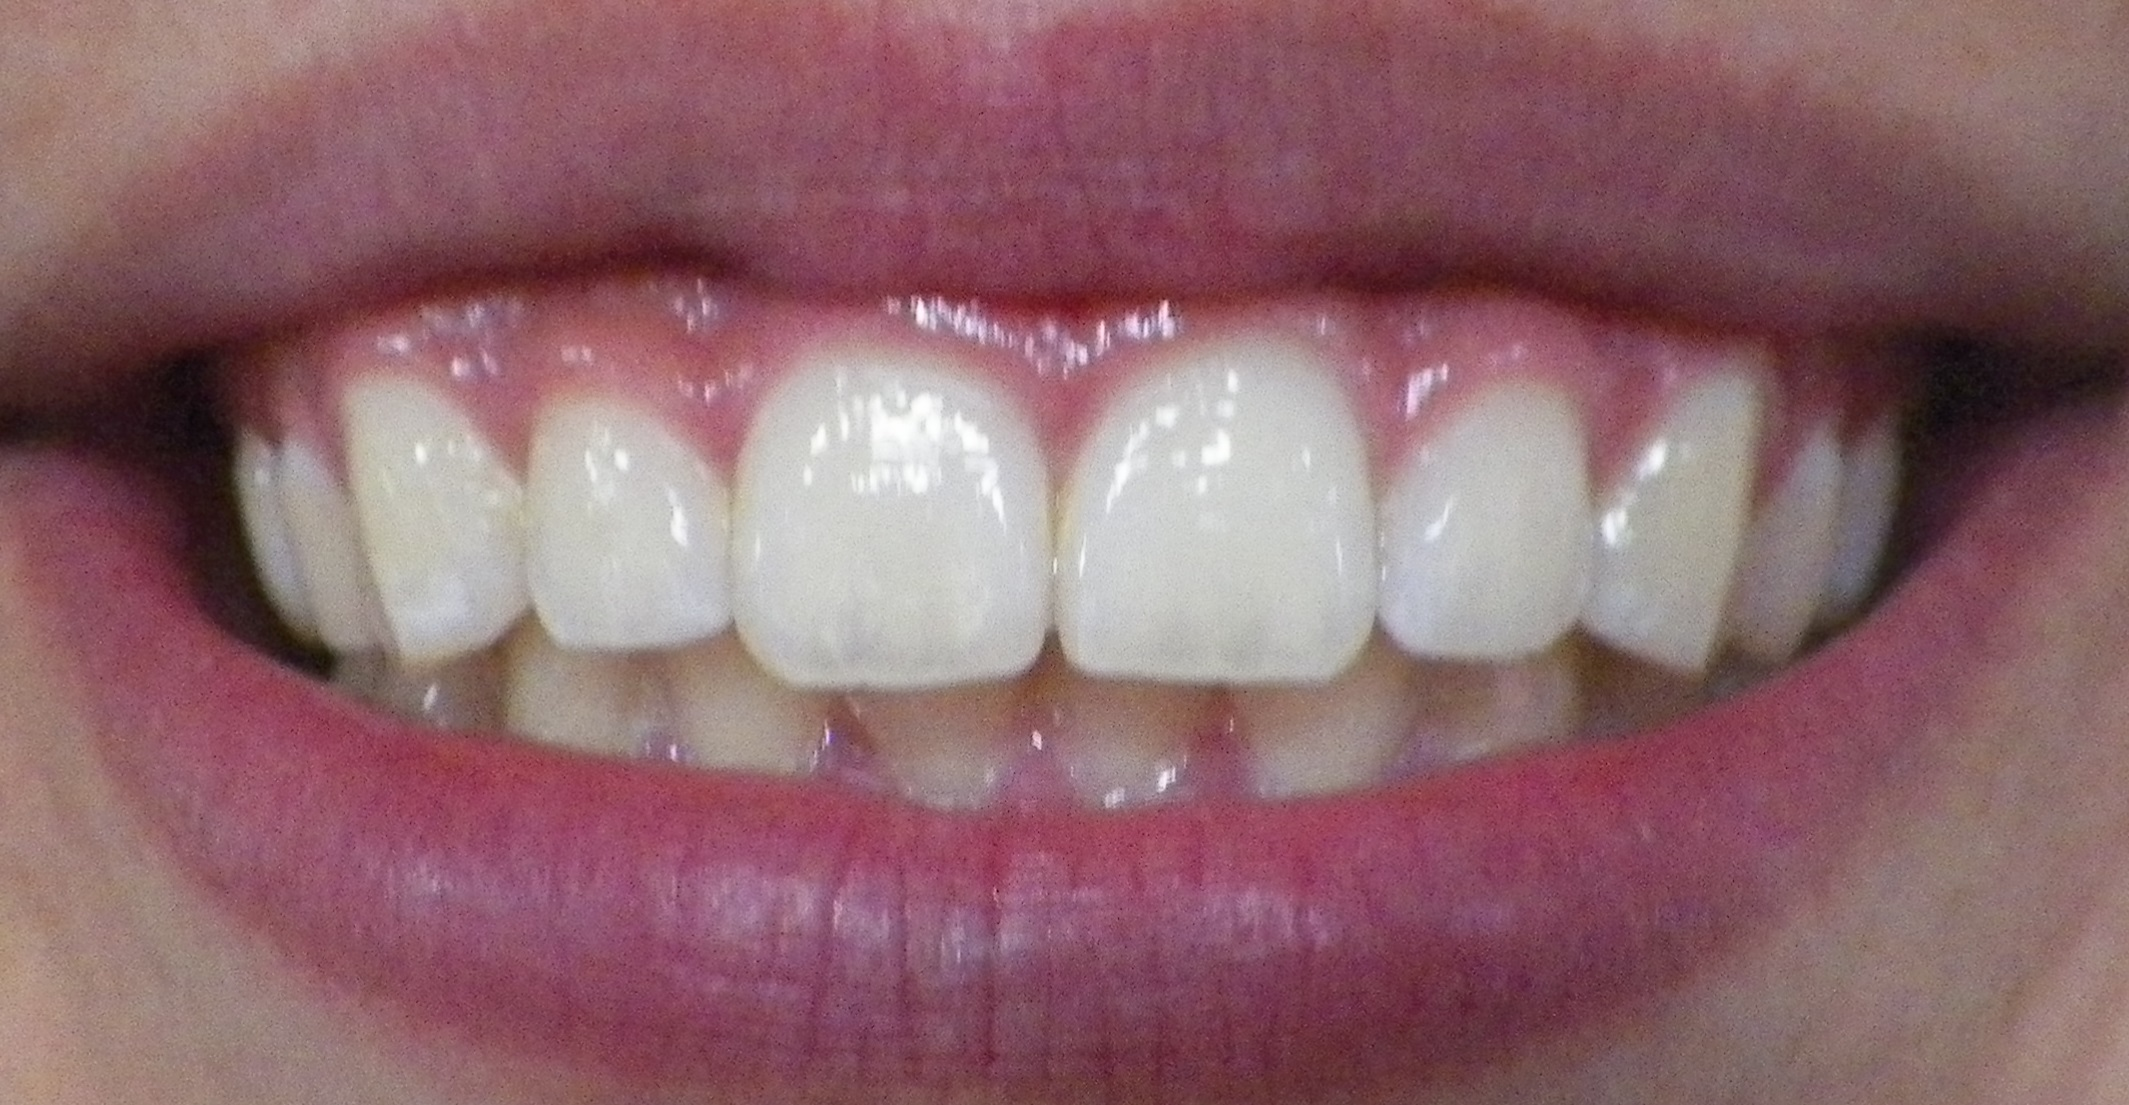boca: (197, 348, 1897, 797)
